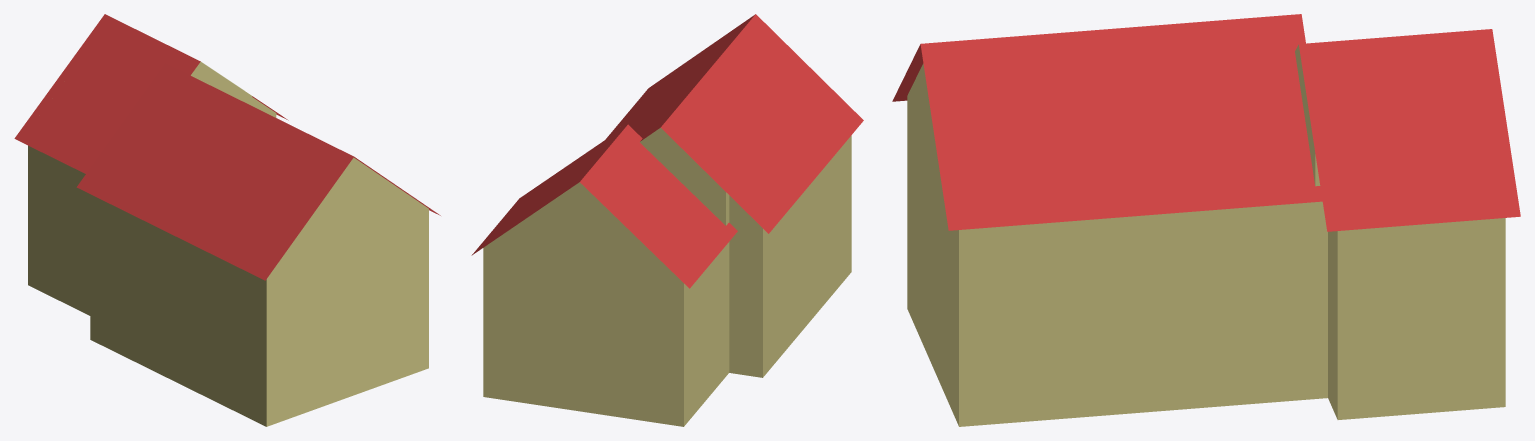
3 renders of one model, left to right at view 1: azimuth 30°, elevation 25°; view 2: azimuth 150°, elevation 25°; view 3: azimuth 270°, elevation 25°, orthographic. The views are drawn at different scales.
Size of the model in its own units: 14.44 by 24.14 by 13.78.
